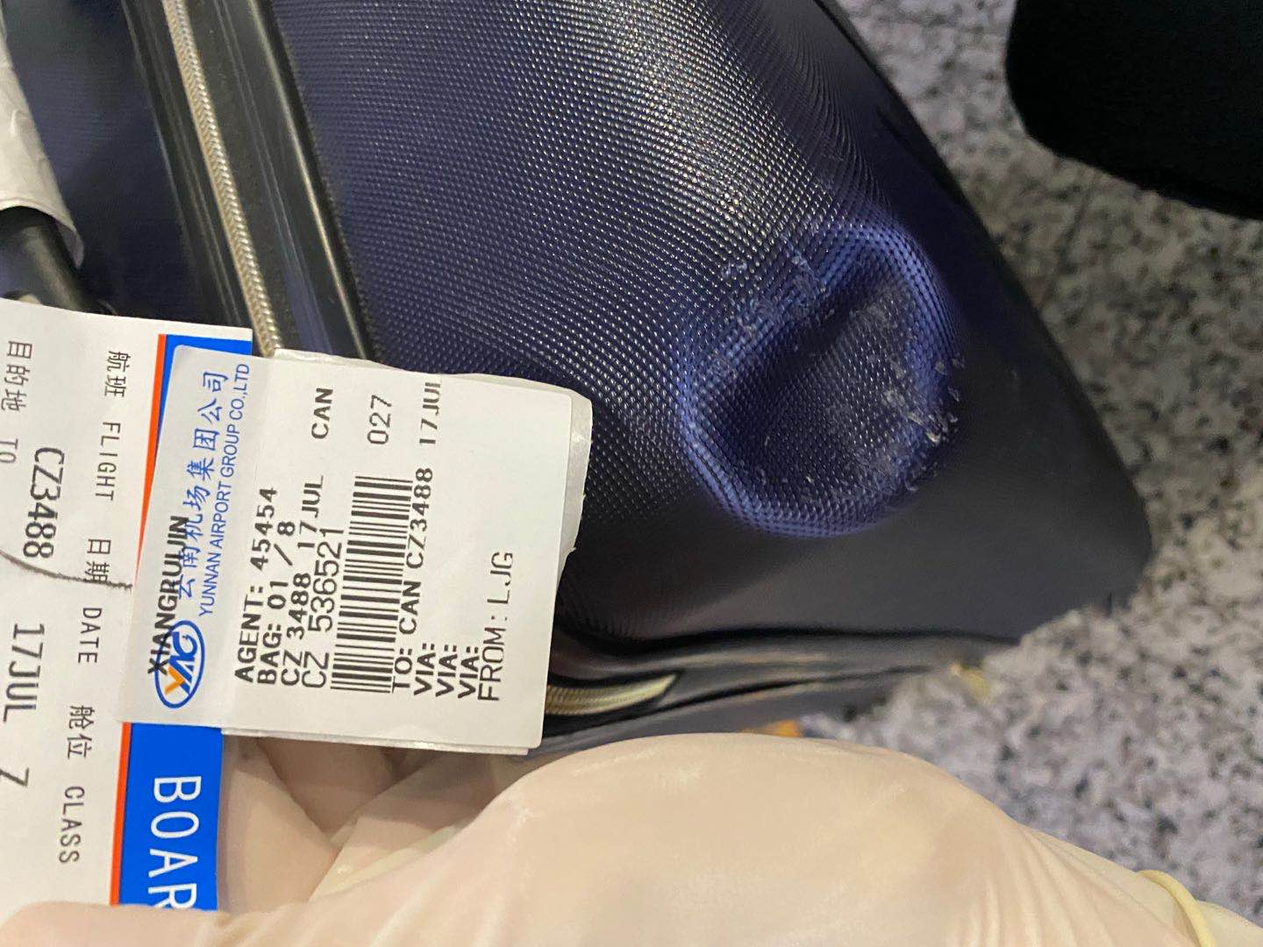rupture: (674, 223, 948, 538)
